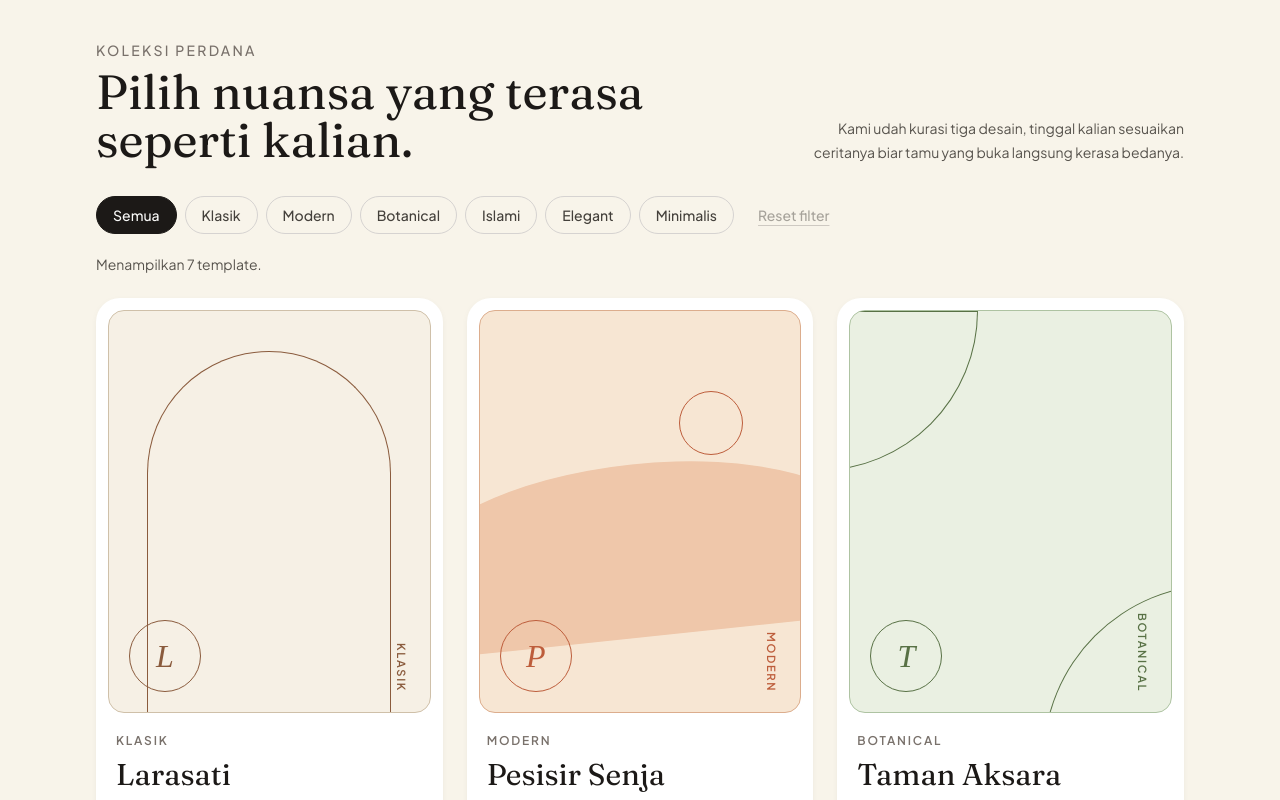
Test: Catalog › filters templates by category and resets to complete collection
Expected: the heading "Larasati" is shown, [116,756,231,793]
Expected: the heading "Pesisir Senja" is shown, [487,756,665,793]
What coordinates should you click on to do the following:
click the button "Modern"
I would click on:
 (309, 215)
Its box is [266,196,352,234].
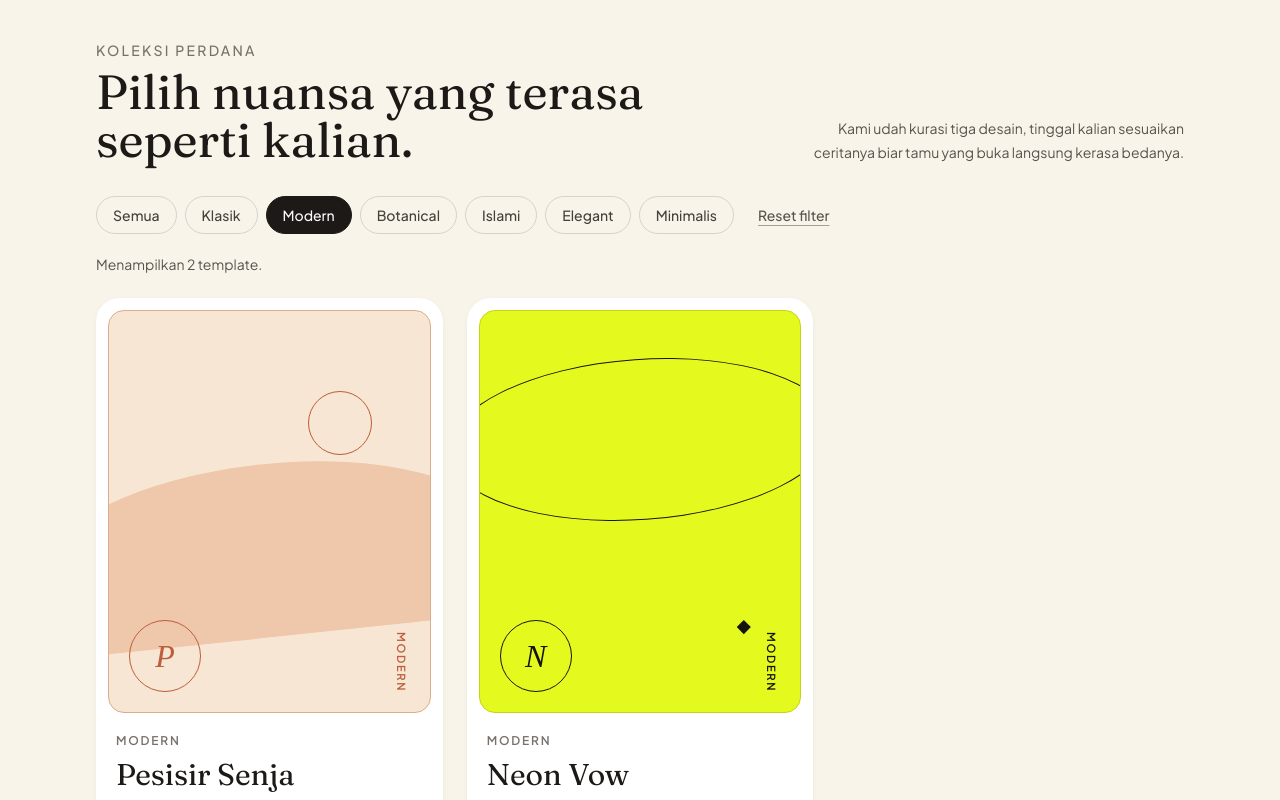
Expected: the heading "Pesisir Senja" is shown, [116,756,294,793]
Expected: the heading "Larasati" is gone
What coordinates should you click on to do the following:
click the button with aria-label "Tampilkan semua template"
I would click on:
 (794, 215)
Its box is [746,197,842,233].
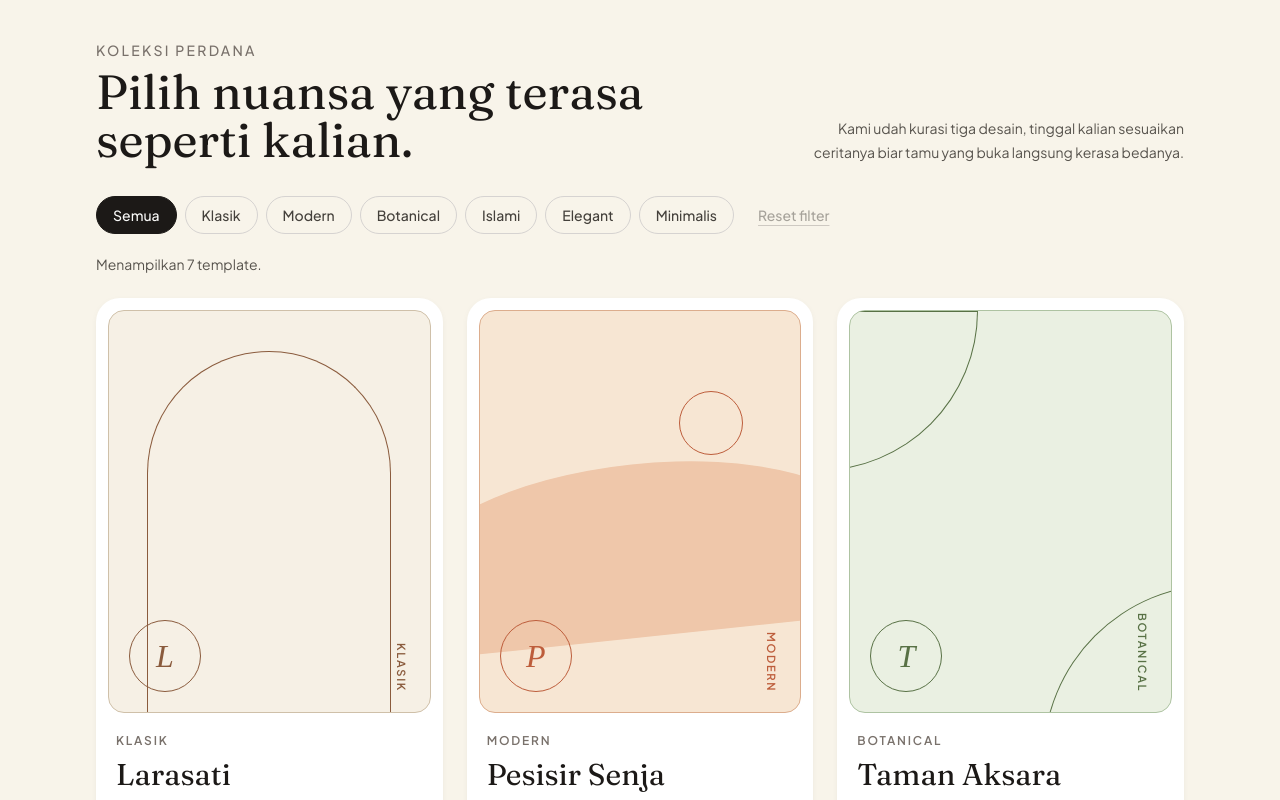
Expected: the heading "Pesisir Senja" is shown, [487,756,665,793]
Expected: the heading "Larasati" is shown, [116,756,231,793]
